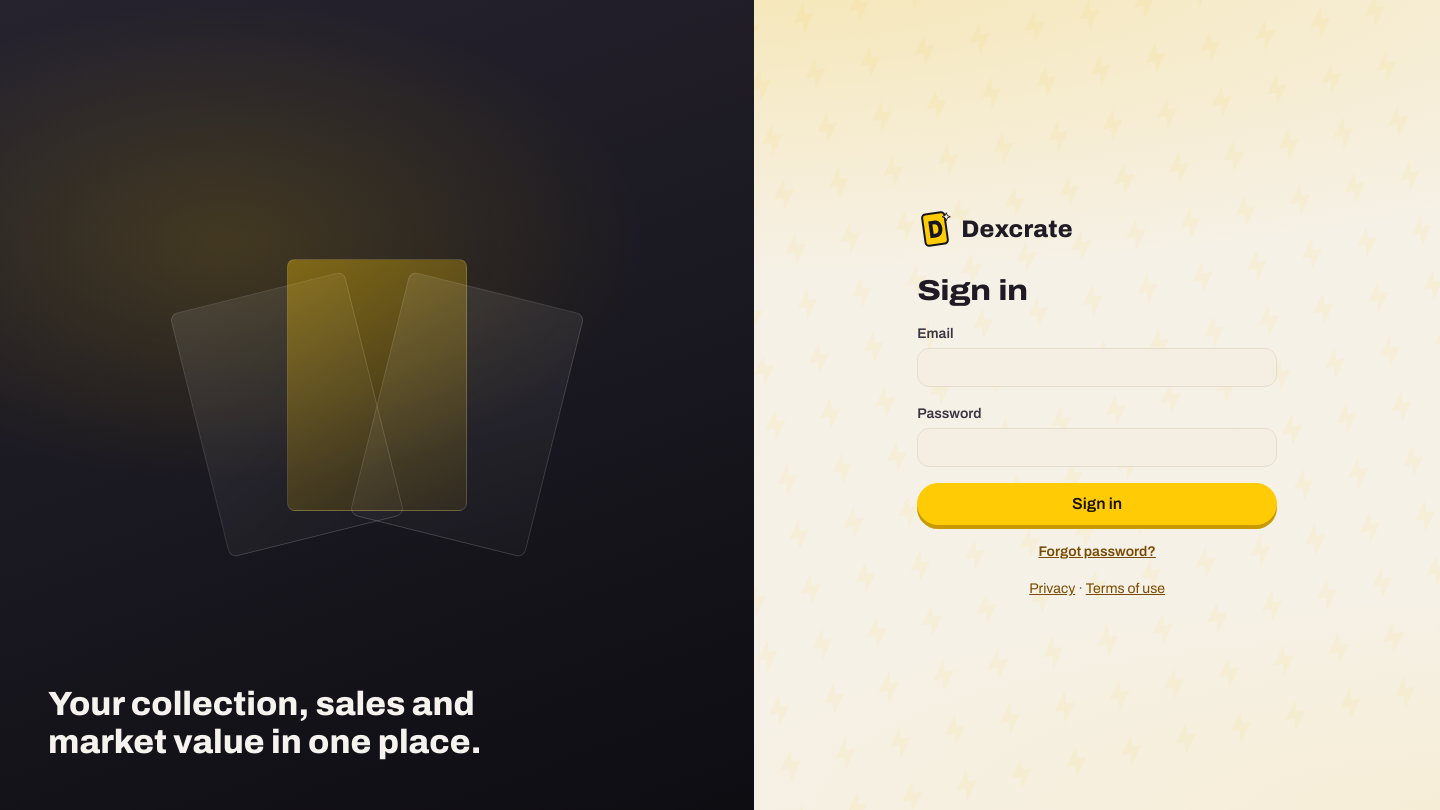
Scenario: Login (24-10-2026: wachtwoord vergeten, registreren) › wachtwoord vergeten: mail met link terug naar de app; altijd dezelfde melding
Click the button "Forgot password?" at (1097, 551), box [1038,541,1156,562]
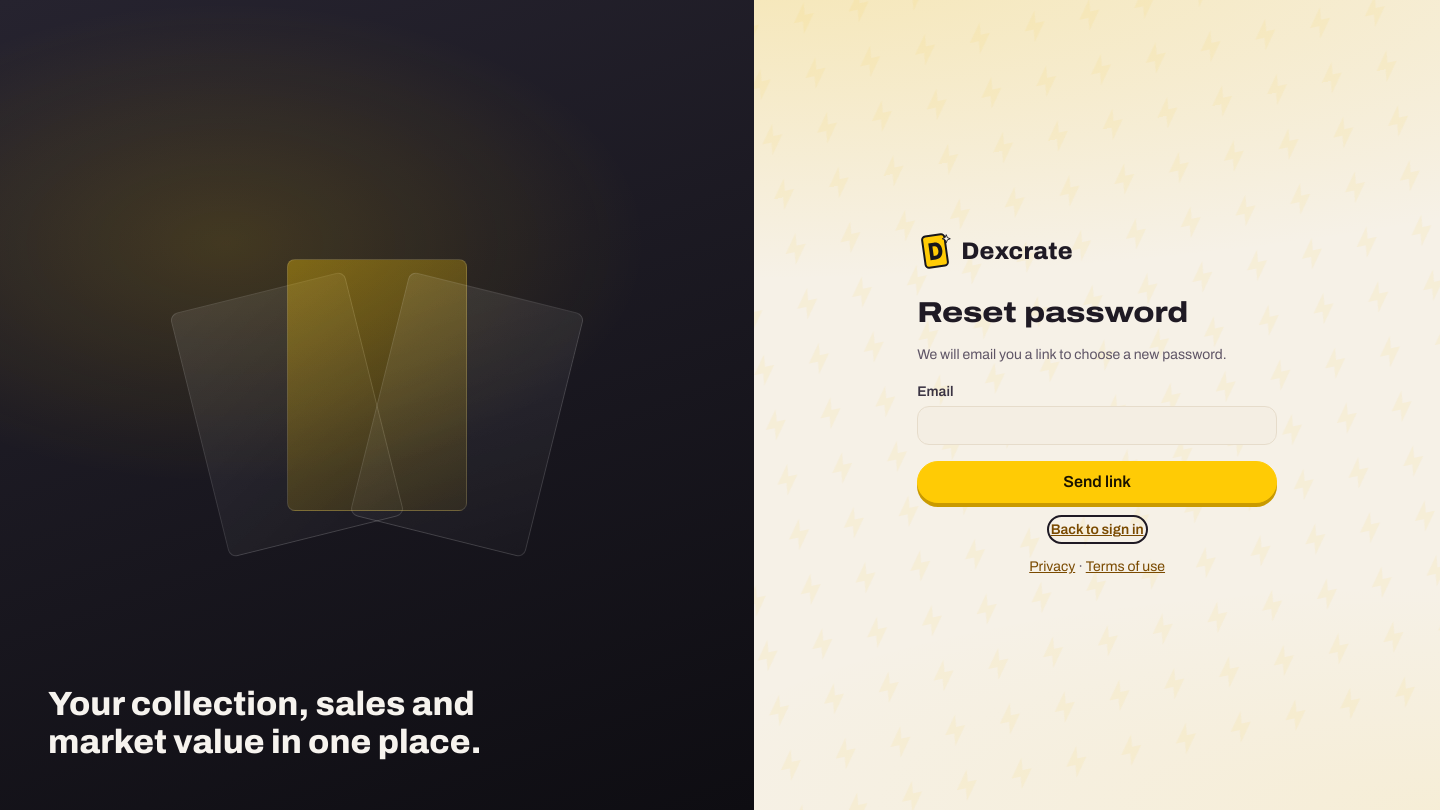
Expected: the heading "Reset password" is shown, [917,297,1188,328]
Type " ash@example.com " into the field labelled "Email" at (1097, 426), box [917,406,1277,445]
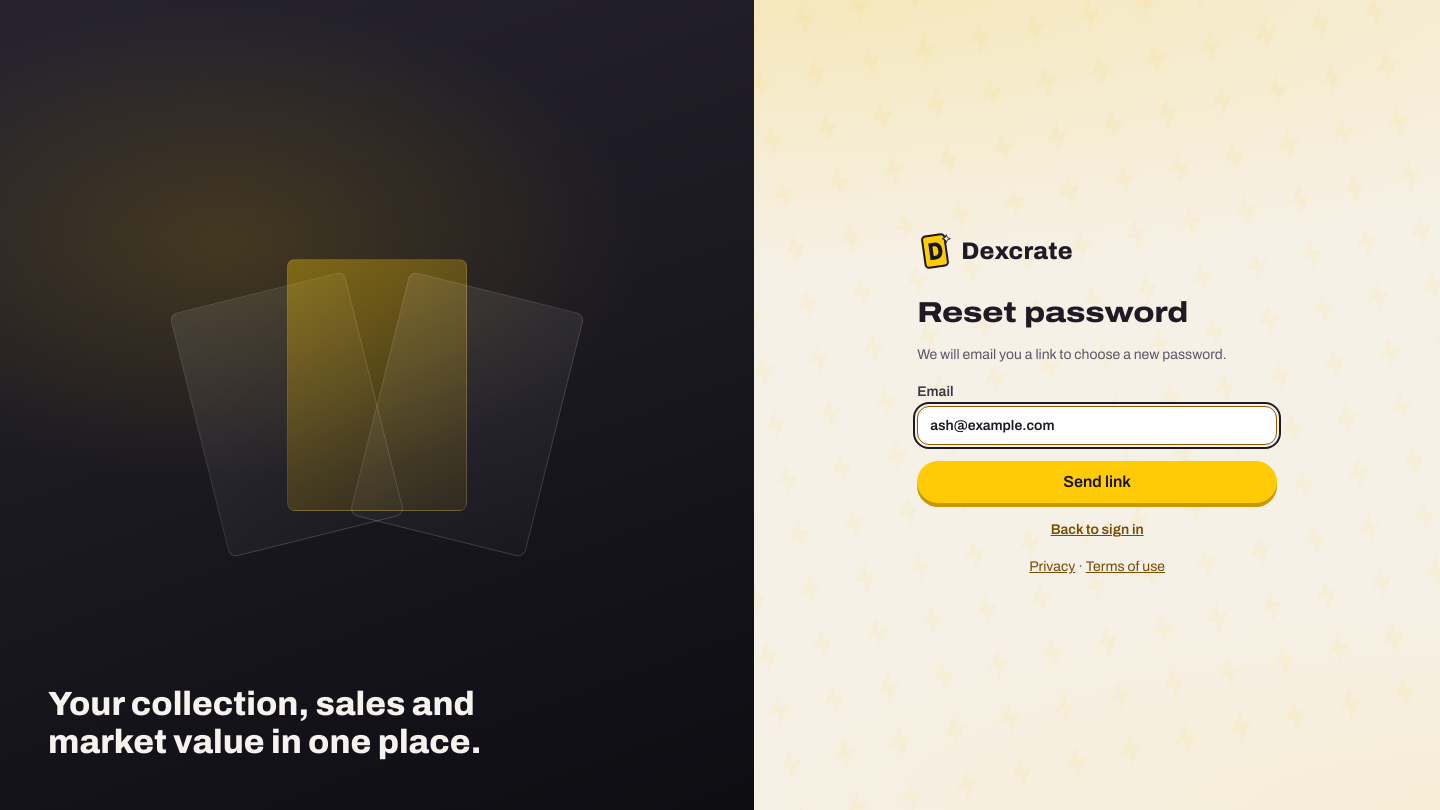
Click the button "Send link" at (1097, 482), box [917,461,1277,503]
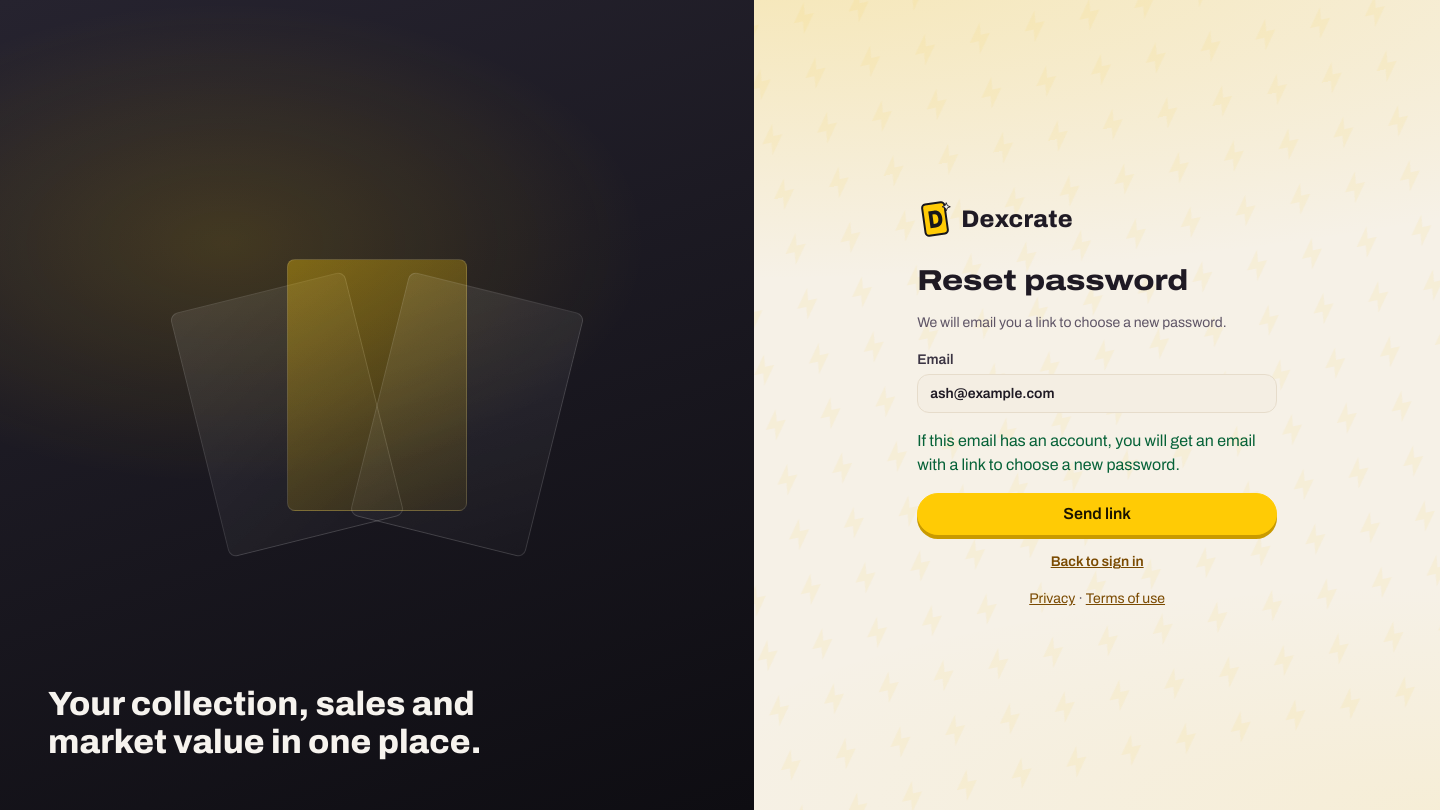
Expected: the message shows "If this email has an account", [917,432,1256,473]
Click the button "Back to sign in" at (1097, 562), box [1051,551,1144,572]
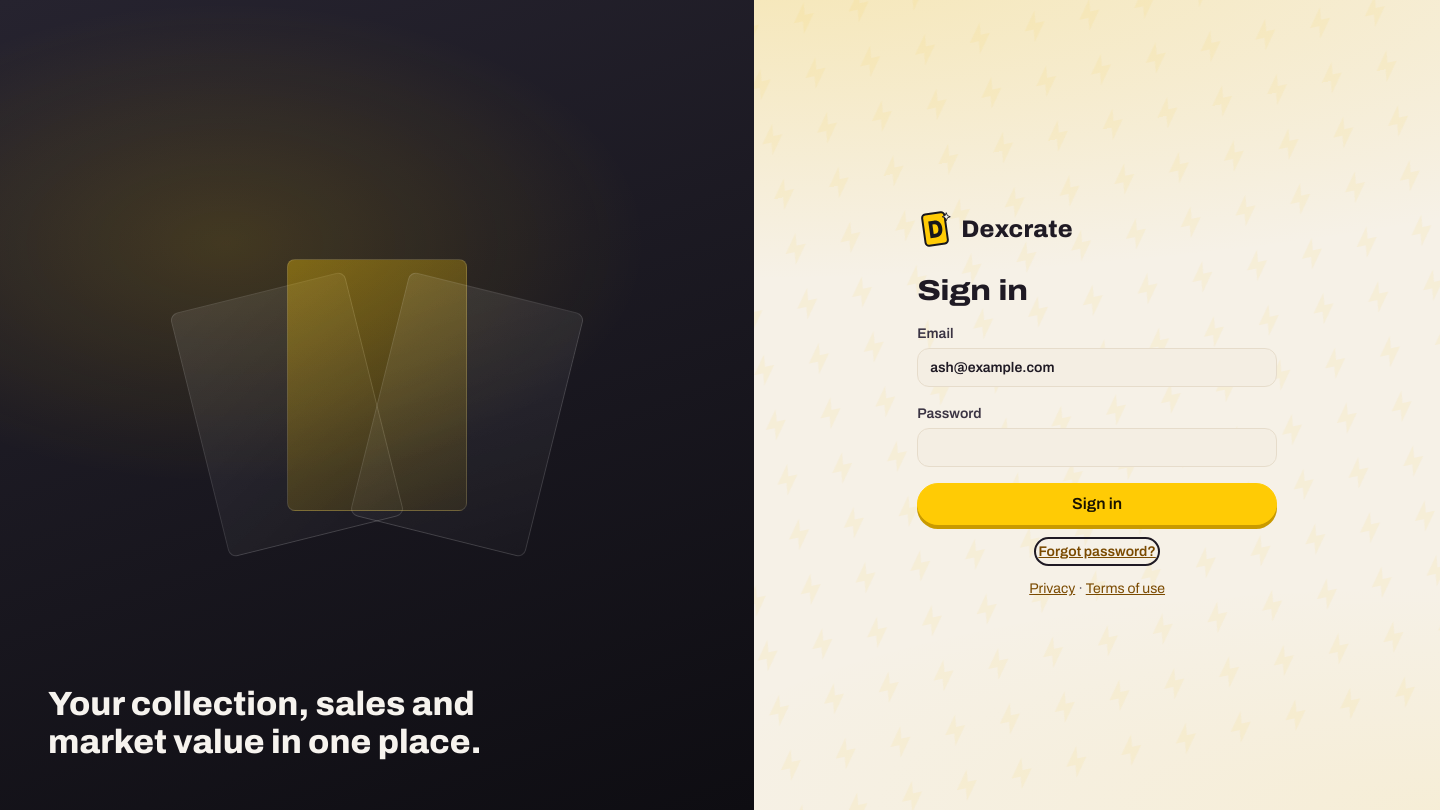
Expected: the heading "Sign in" is shown, [917,275,1028,306]
